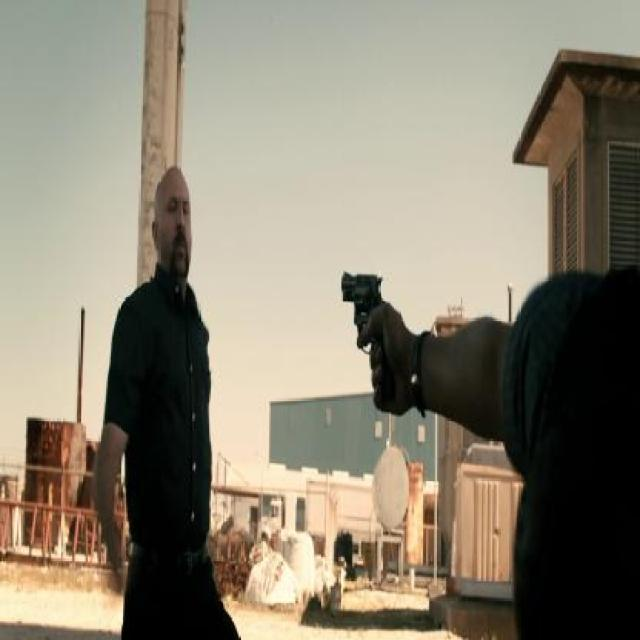gun: (335, 245, 408, 460)
